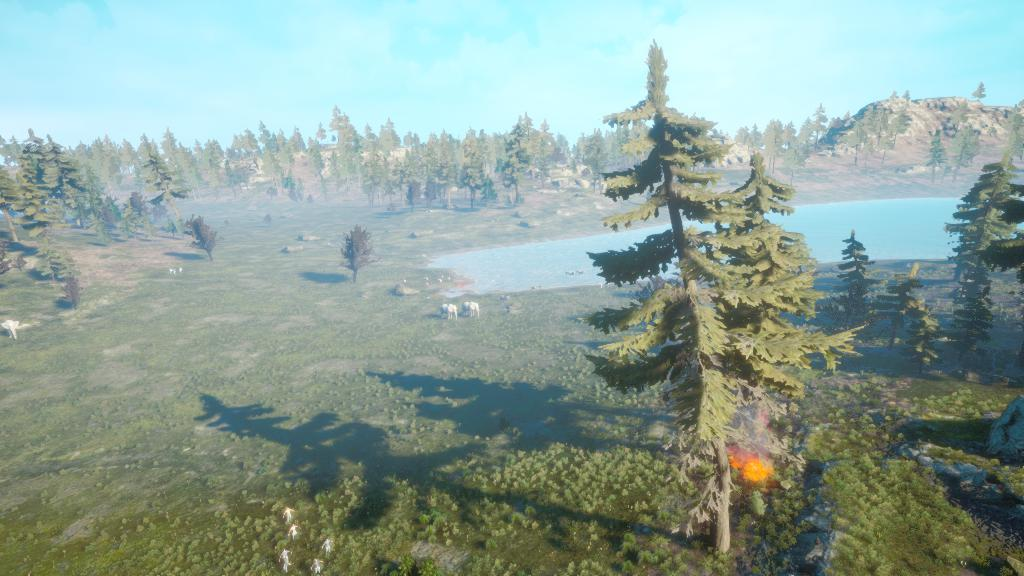Fire: (734, 444, 791, 480)
elephant: (460, 291, 494, 324), (0, 309, 23, 347), (438, 297, 464, 327)
human: (269, 543, 305, 575), (279, 498, 307, 527), (319, 529, 346, 557), (304, 551, 334, 575), (281, 523, 310, 544)
